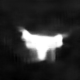plane: (16, 25, 70, 64)
